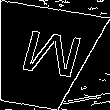M_S: (6, 28, 78, 87)
